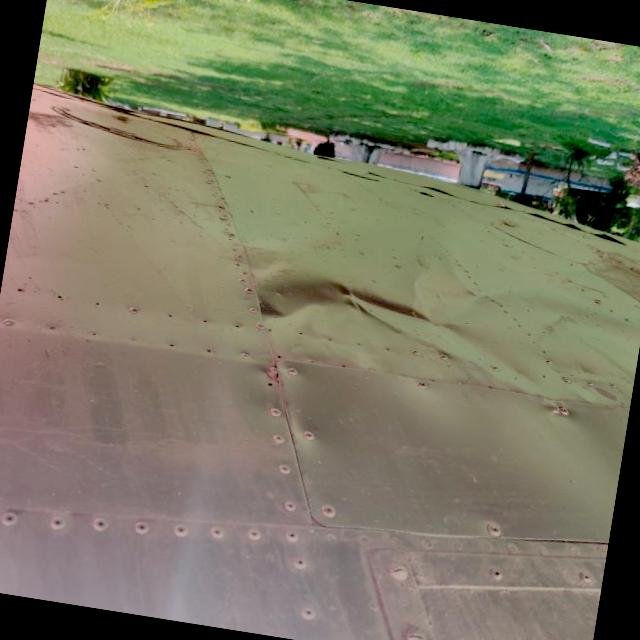dent: (211, 215, 572, 436)
